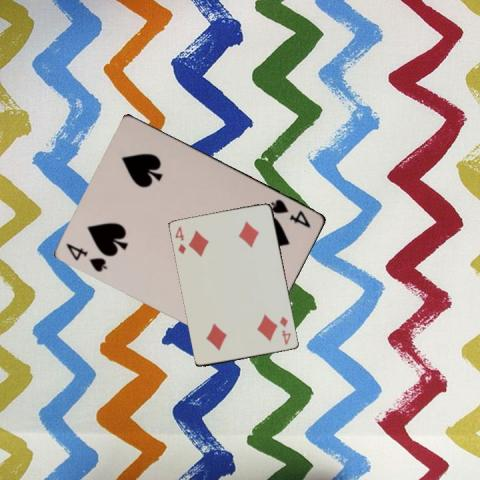4d: (277, 313, 292, 346), (173, 223, 187, 256)
4s: (64, 240, 110, 273), (268, 196, 313, 229)
